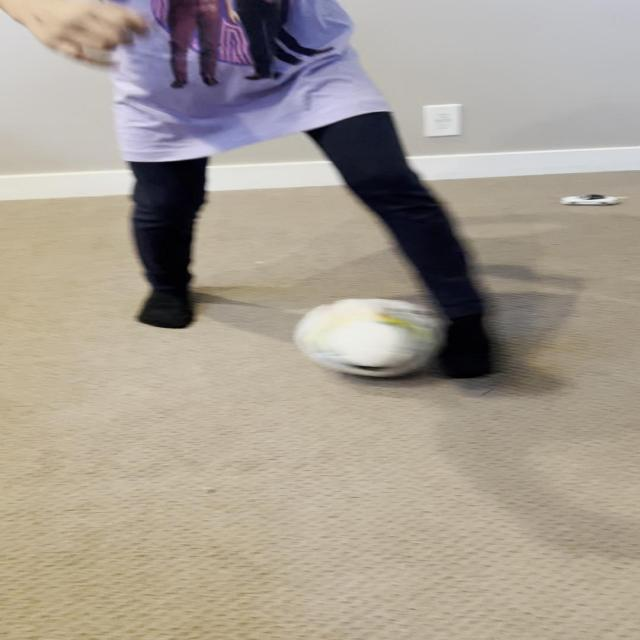Soccer Ball: (297, 298, 450, 377)
